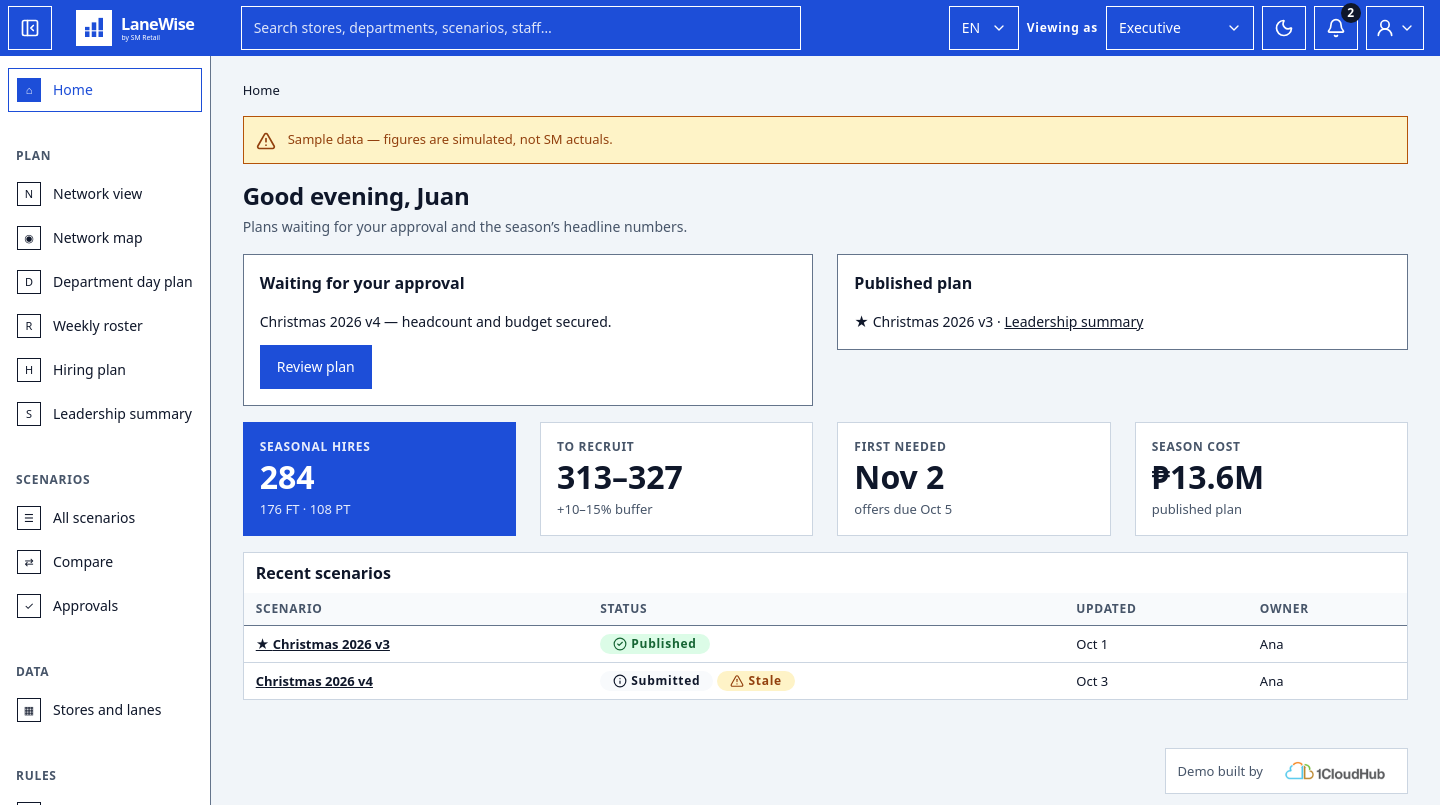
Test: top-bar bell › opening an unread item marks it read and goes to the object
Click the button named "Notifications, 2 unread". click: (1336, 28)
box: [1314,6,1358,50]
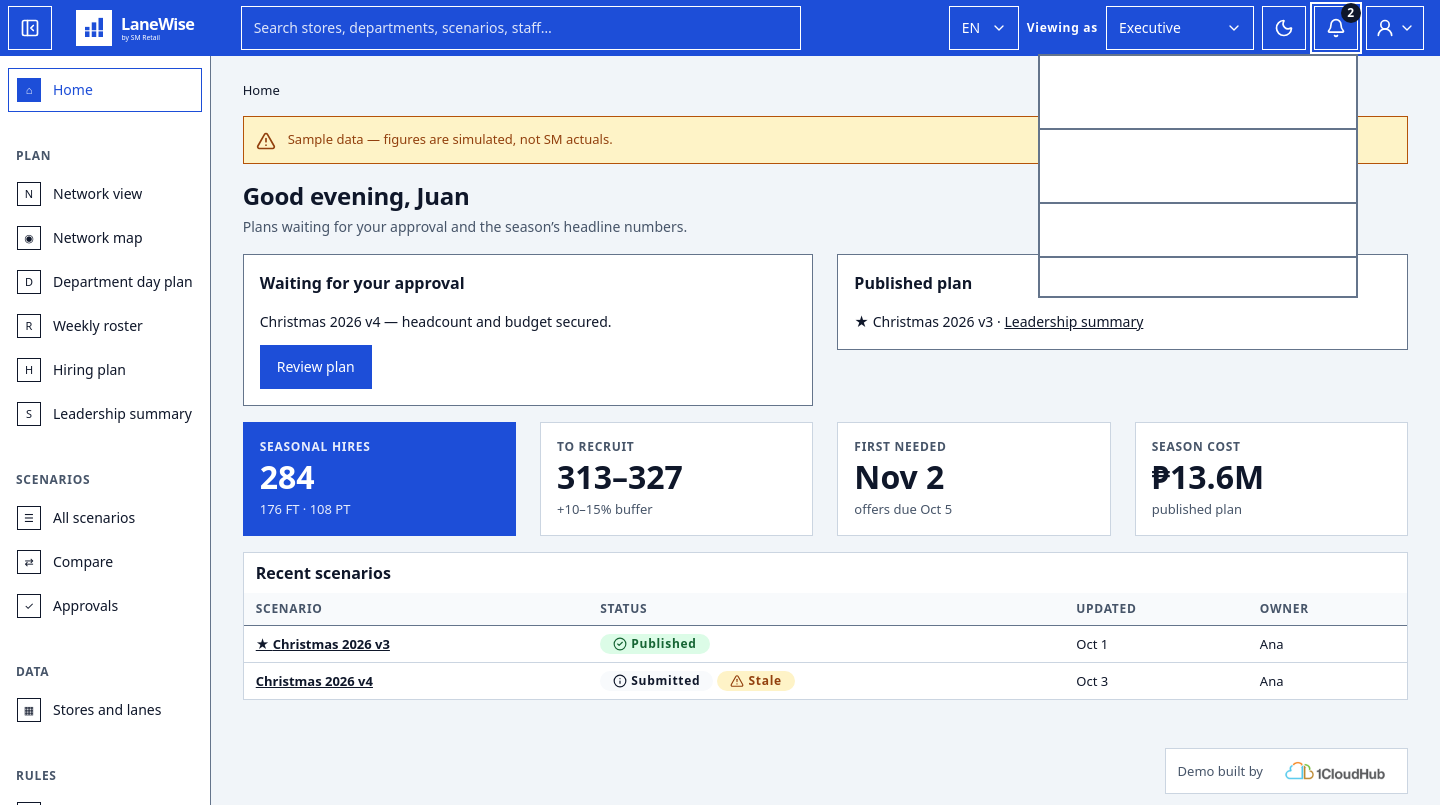
Click the link "Plan ready for your approval". click: (1098, 73)
box: [1040,56,1356,128]
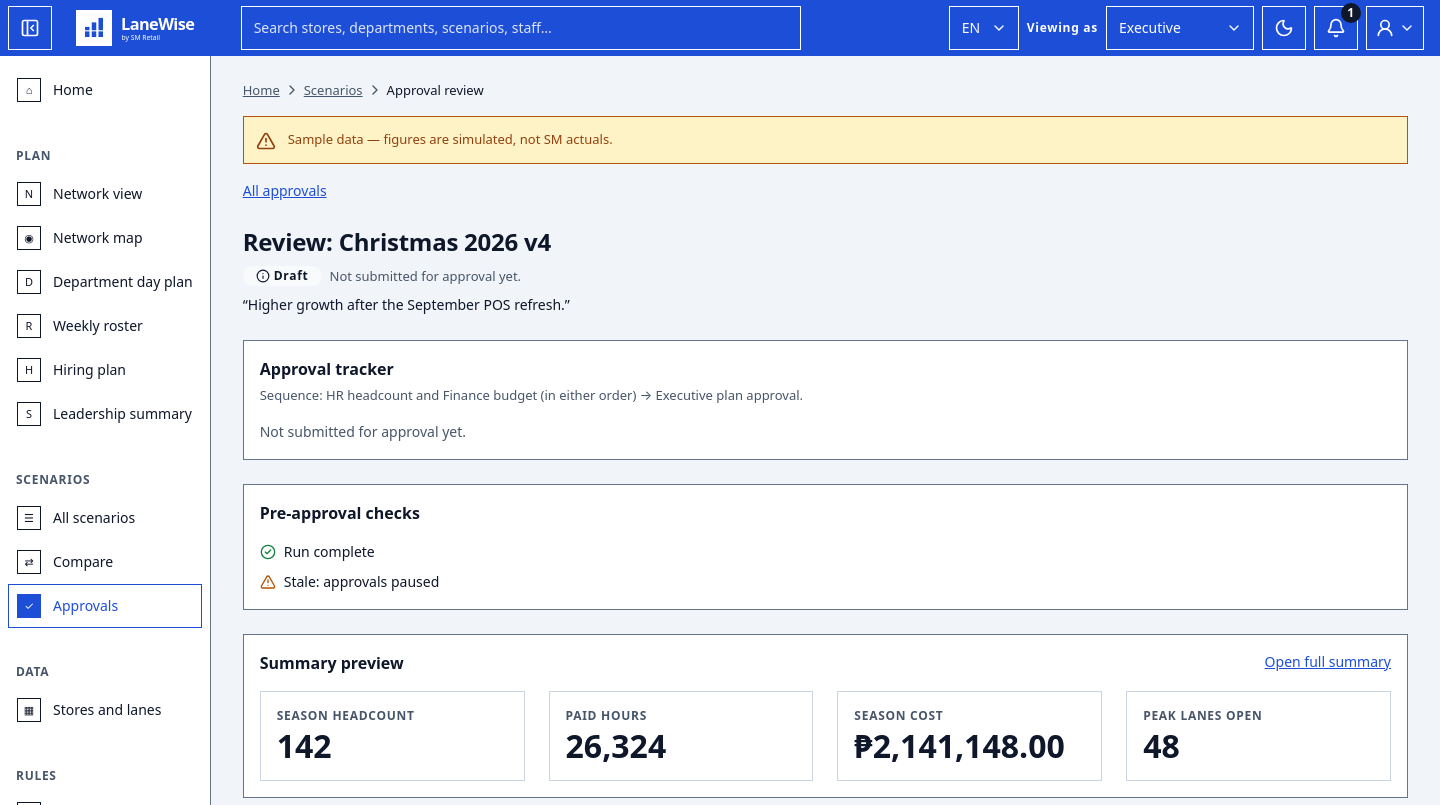
expect the button named "Notifications, 1 unread" is shown: met, box [1314,6,1358,50]
